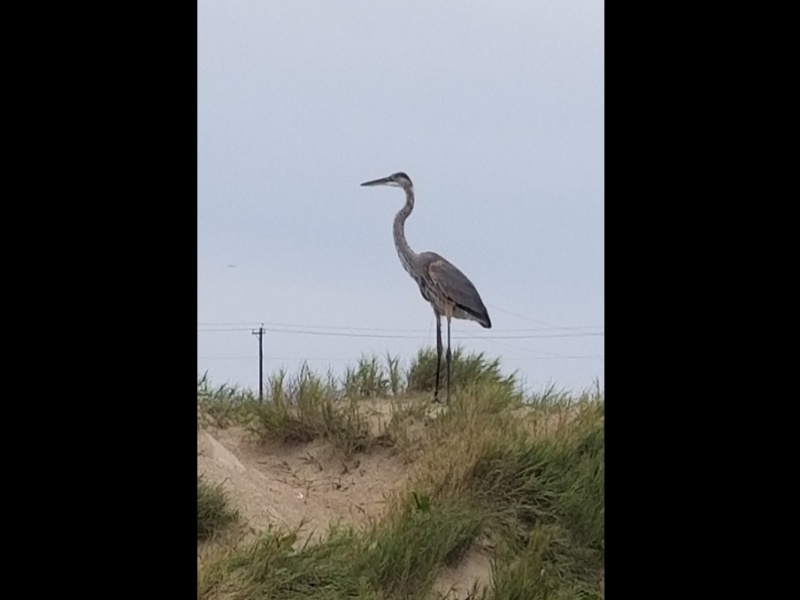heron: (353, 166, 496, 408)
